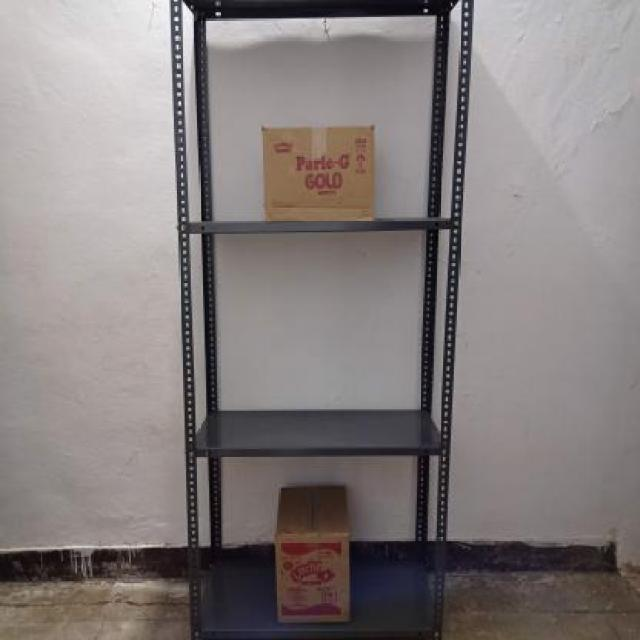box: (260, 123, 377, 220), (277, 530, 351, 626)
